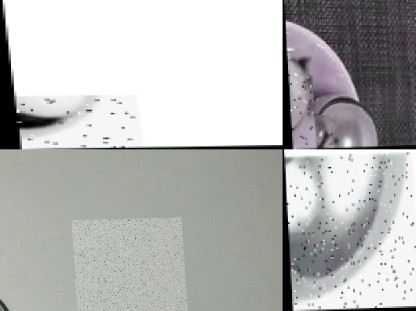ironball: (282, 153, 415, 311), (68, 219, 183, 311), (9, 95, 136, 149), (0, 226, 68, 311), (291, 92, 381, 149), (285, 56, 313, 149), (0, 149, 22, 246)
